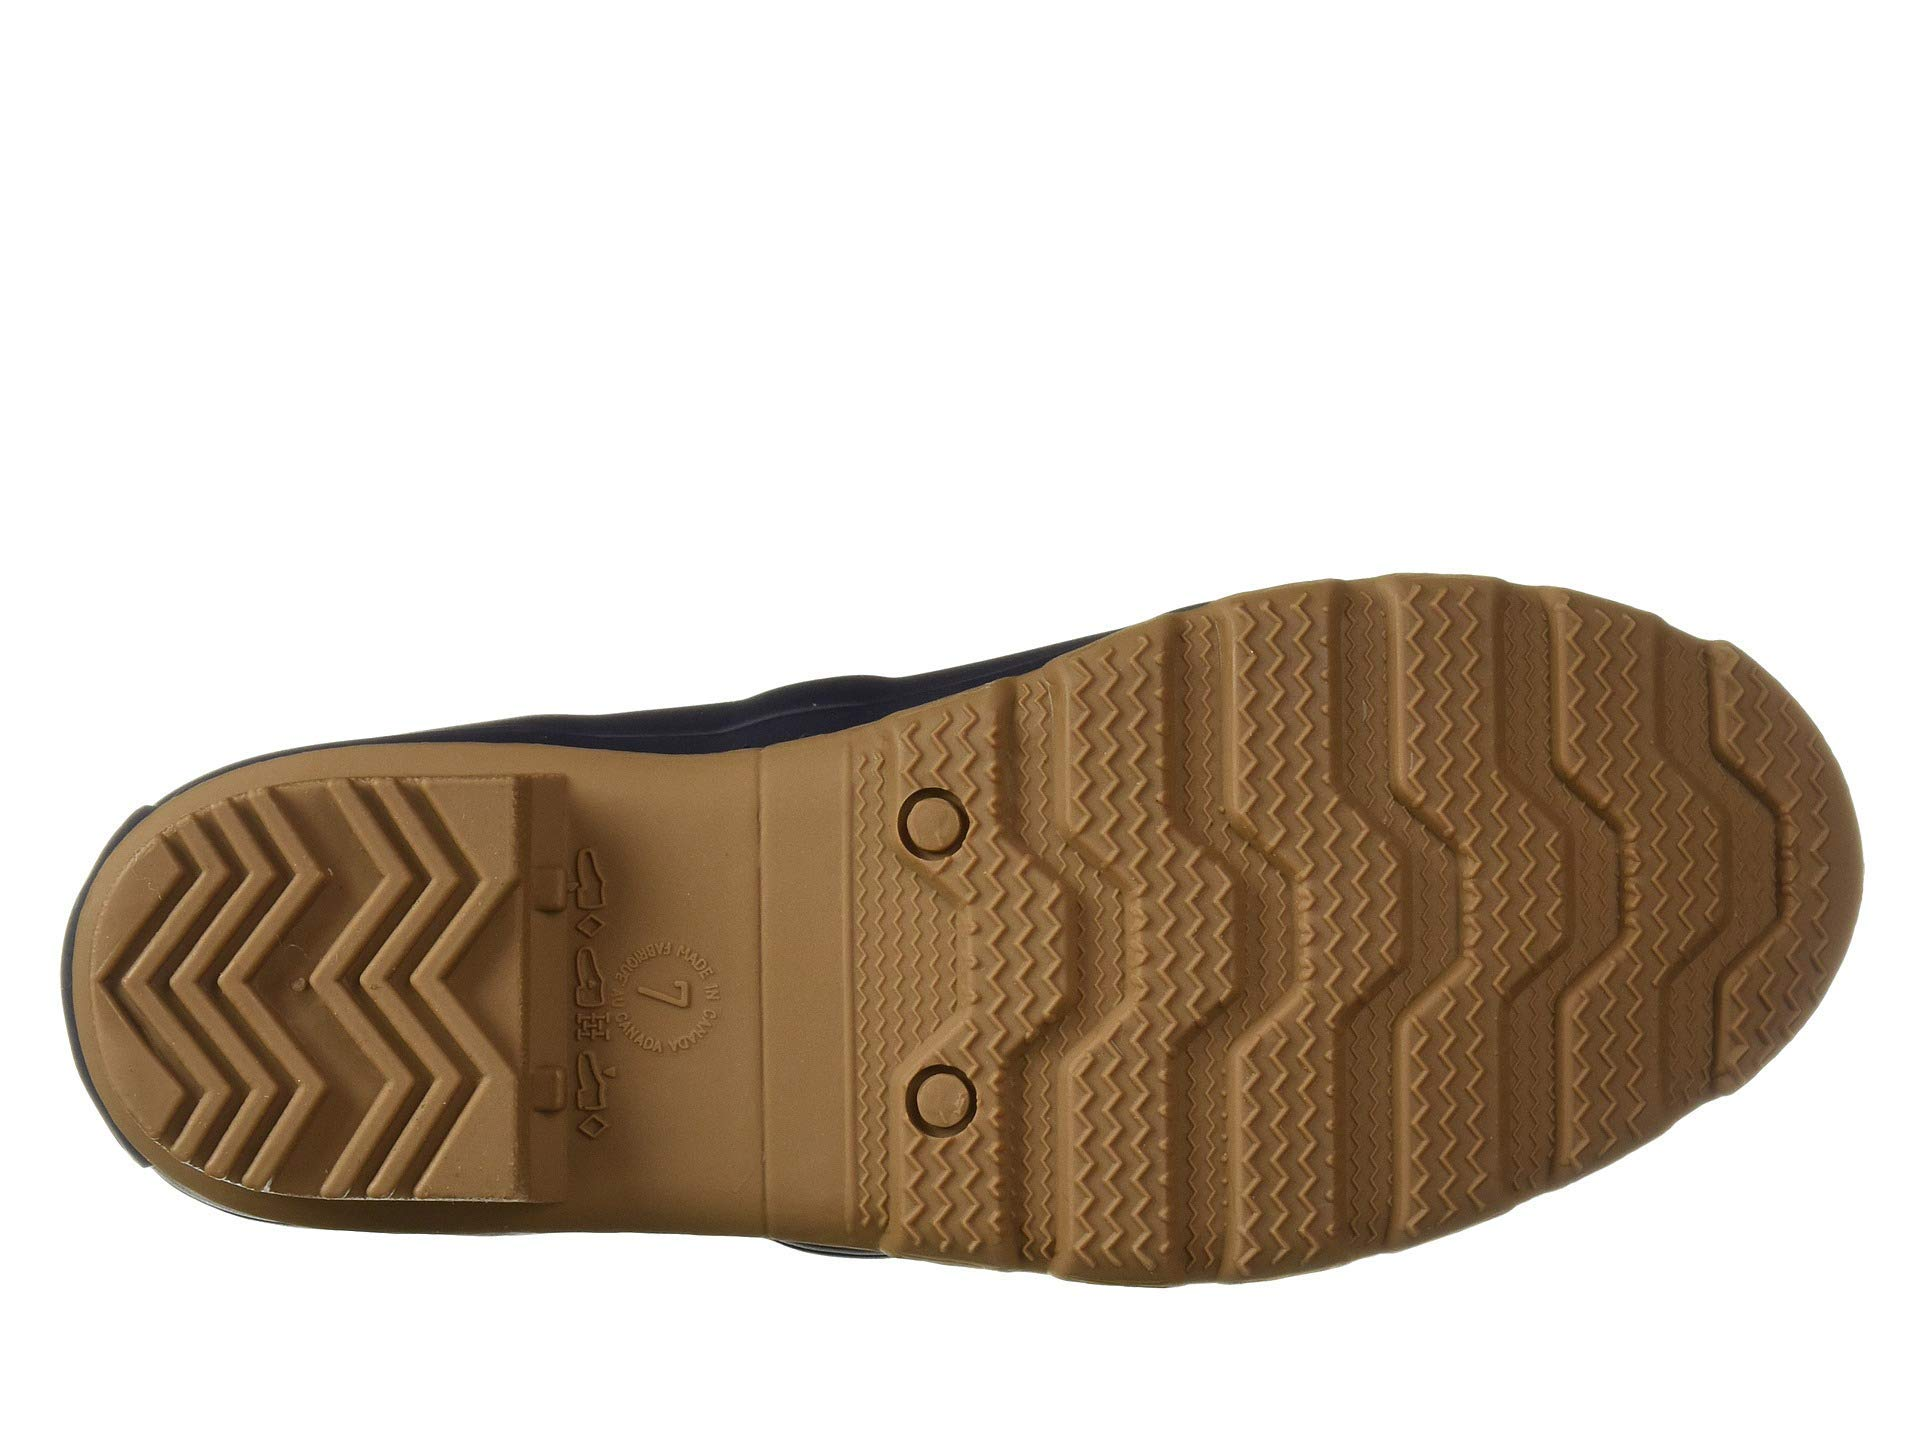chevron: (1226, 638, 1655, 1103), (874, 750, 1081, 1234)
circle: (874, 750, 1081, 1234)
exclude: (519, 726, 862, 1258)
